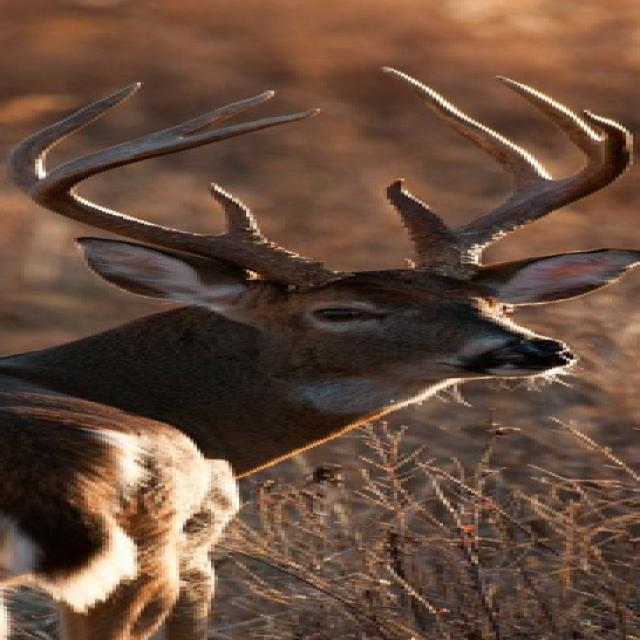L-F: (408, 109, 637, 281)
L-G1: (383, 178, 455, 243)
L-G2: (380, 67, 552, 189)
L-G3: (493, 74, 601, 158)
R-F: (26, 108, 350, 291)
R-G1: (206, 182, 262, 238)
R-G2: (7, 81, 145, 193)
R-G3: (155, 90, 276, 138)
